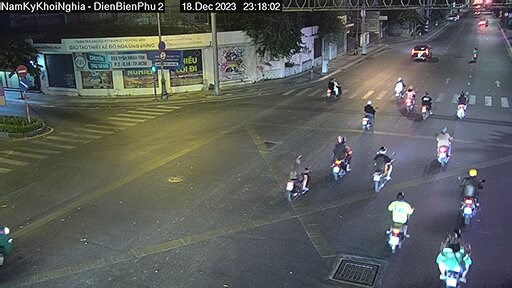car: (406, 39, 441, 65)
motorbike: (424, 227, 474, 288), (367, 192, 415, 244), (456, 165, 494, 224), (364, 148, 402, 190), (282, 156, 314, 201), (433, 129, 460, 173), (325, 134, 350, 179), (317, 69, 344, 106), (353, 95, 381, 129), (454, 85, 475, 115), (462, 43, 488, 63), (416, 91, 433, 116), (399, 88, 417, 110), (390, 74, 403, 89)
